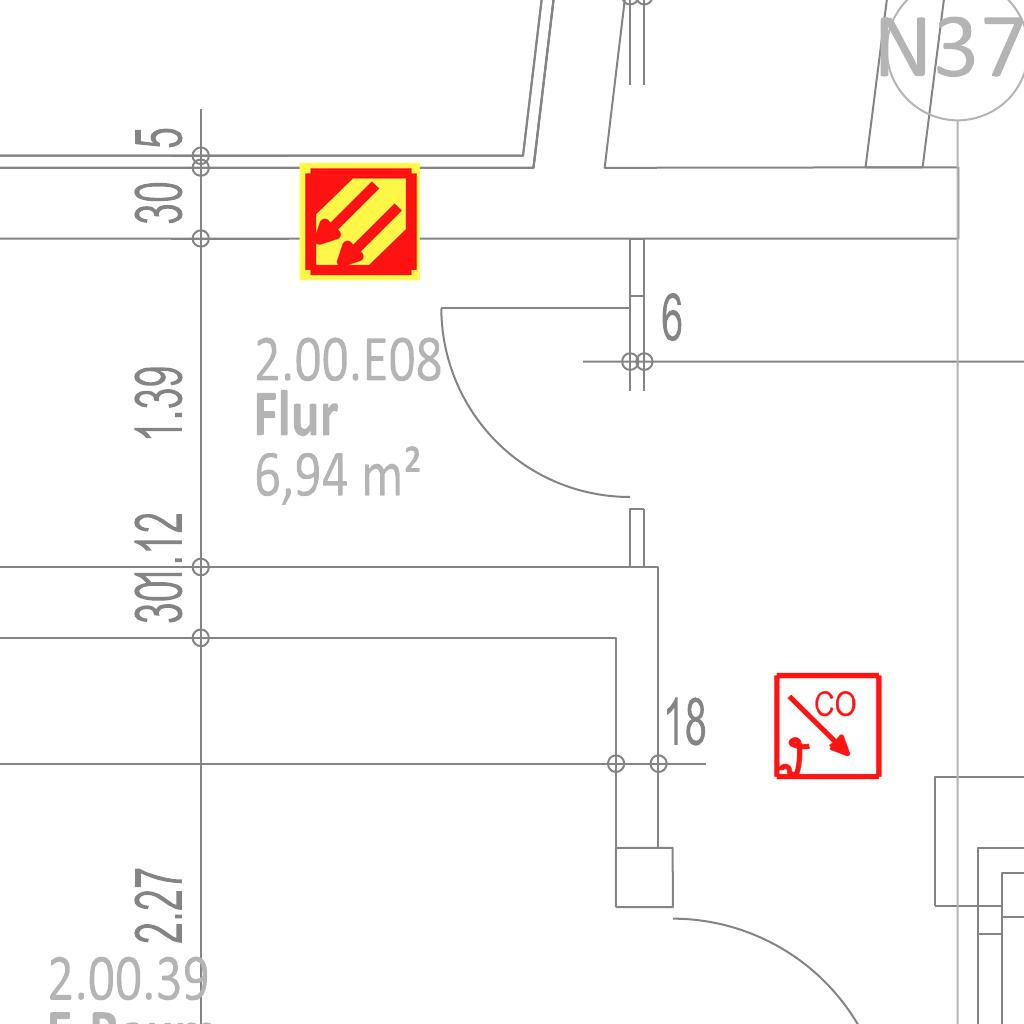ASR_Ansaugrauchmelder: (297, 159, 422, 284)
ROA_Rauchmelder_optisch_mit_Signalgeber_(Sockelsirene): (772, 671, 885, 784)
